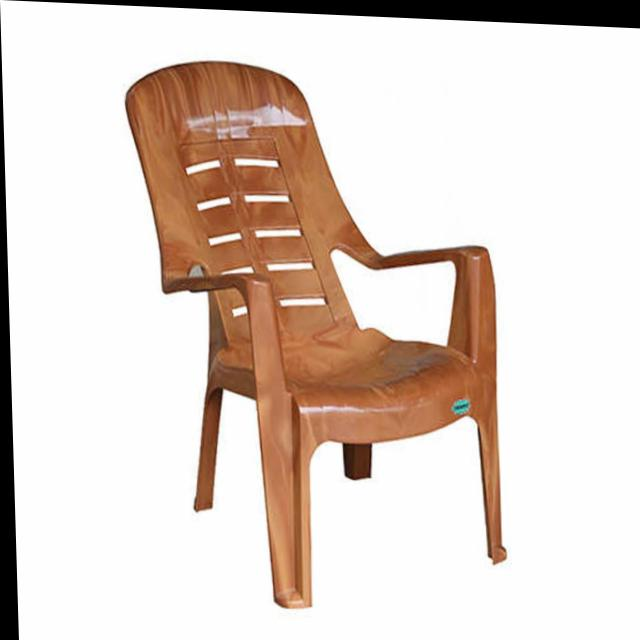Chair: (121, 55, 505, 616)
